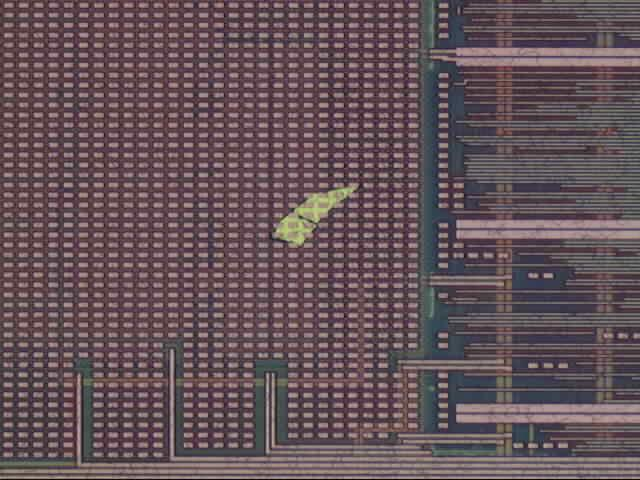BLOCK ETCH: (269, 183, 364, 253)
